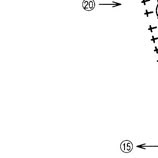chain: (88, 0, 96, 10)
enseble_chain: (135, 138, 158, 154), (98, 0, 122, 12), (121, 139, 134, 154), (84, 0, 92, 12)
